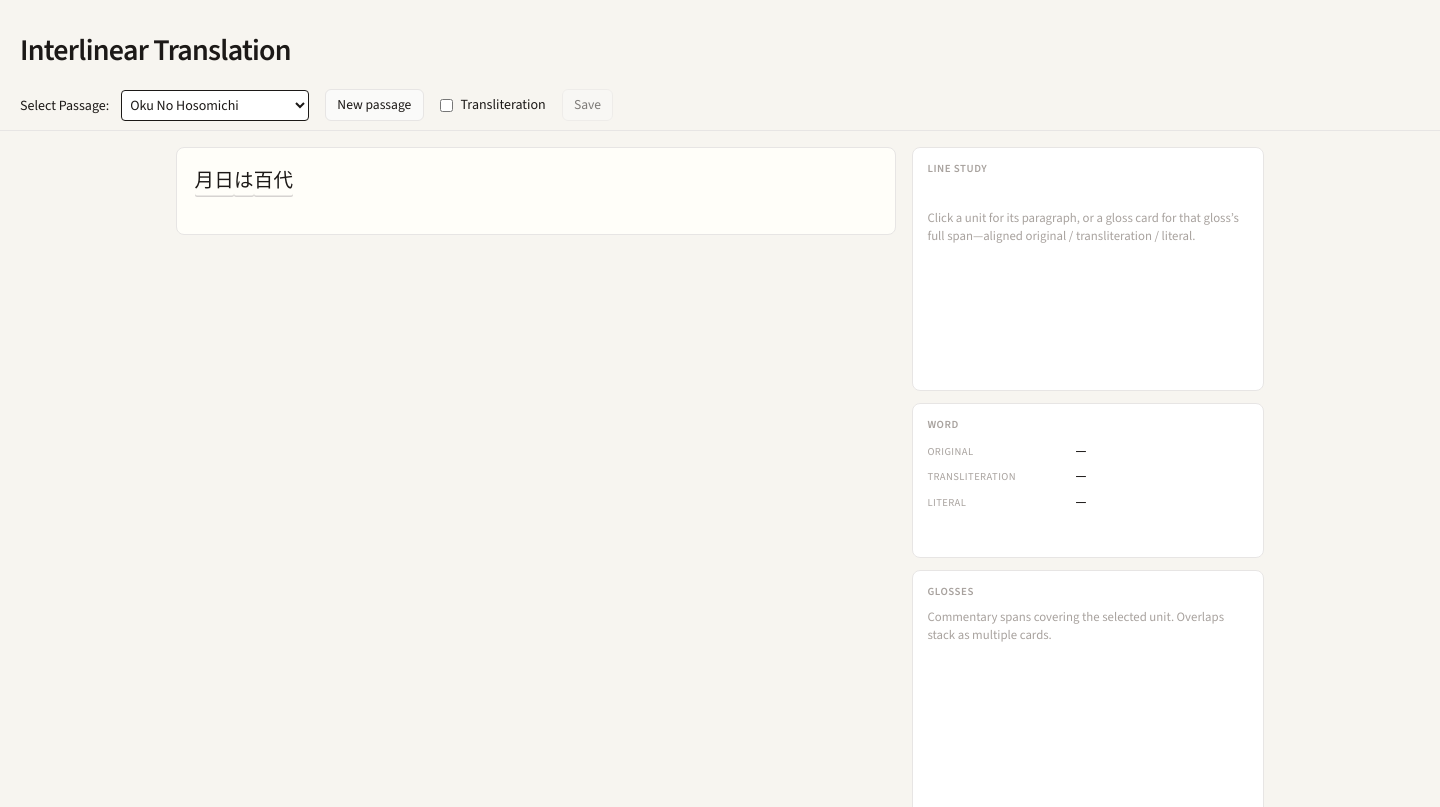
Test: App component › fills word and gloss panels on token click and clears on second click
The image size is (1440, 807).
Click the button "百代" at {"x": 273, "y": 181}, box [254,164,293,197]
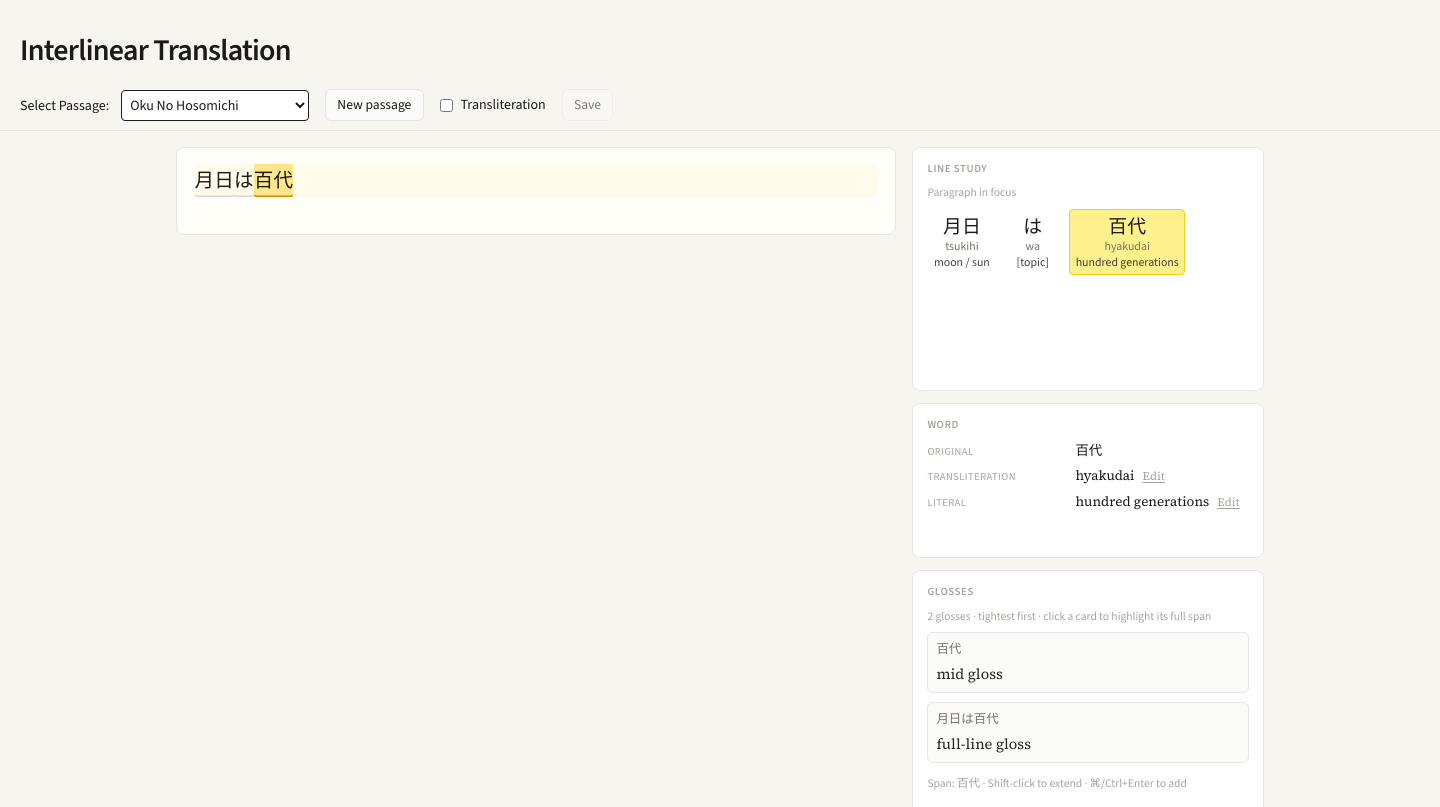
Check: the text "full-line gloss" is shown, box [936,734,1031,754]
Check: the text "mid gloss" is shown, box [936,664,1003,684]
Check: the element labelled "Word" shows "百代", box [1075,440,1102,460]
Click the button "百代" at {"x": 273, "y": 181}, box [254,164,293,197]
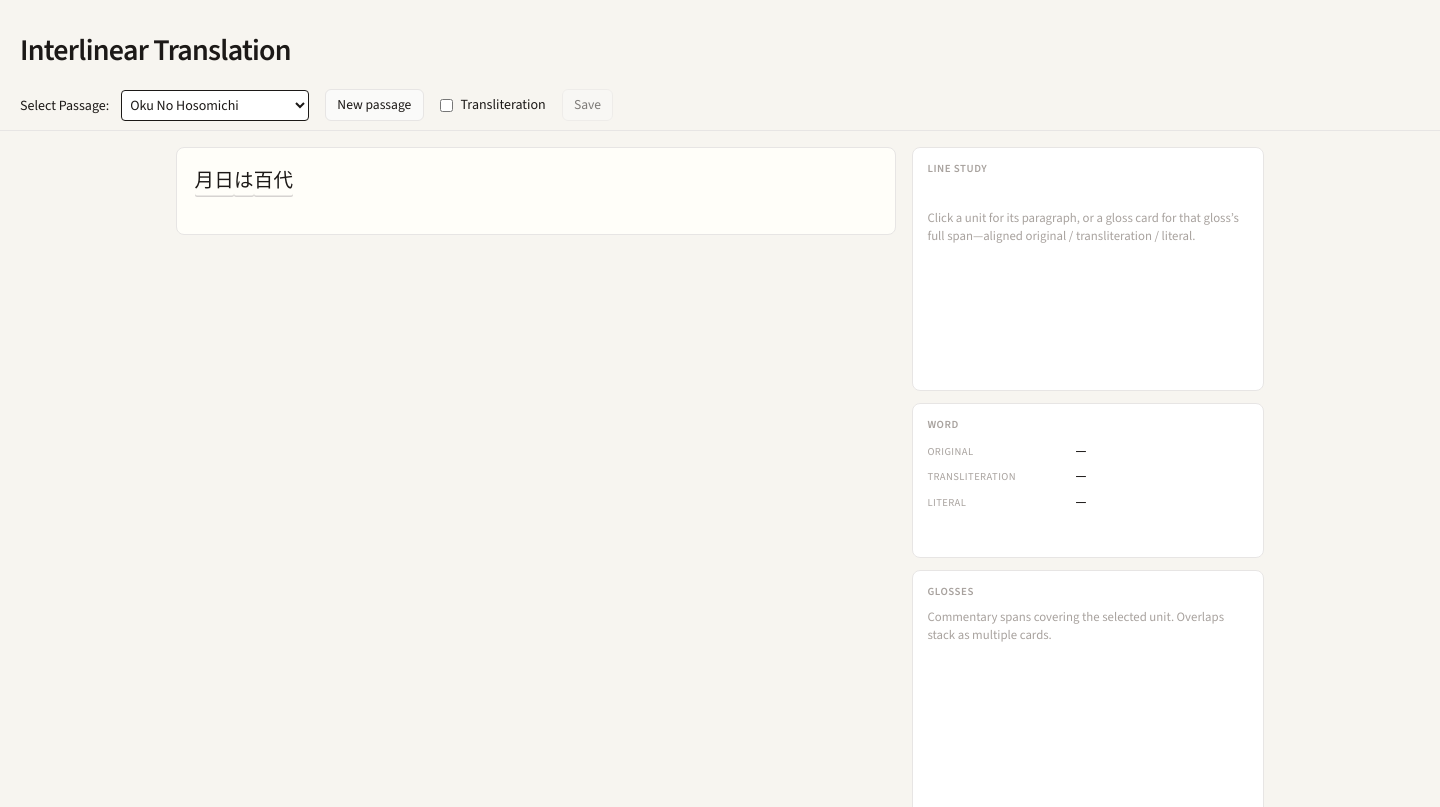
Check: the button "full-line gloss" is gone
Check: the button "mid gloss" is gone
Check: the element labelled "Word" shows "—", box [1075,440,1086,460]
